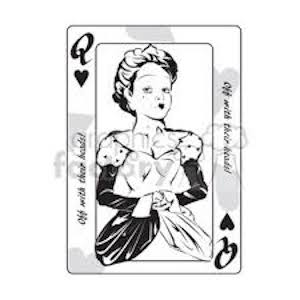QueenOfHearts: (58, 17, 248, 281)
